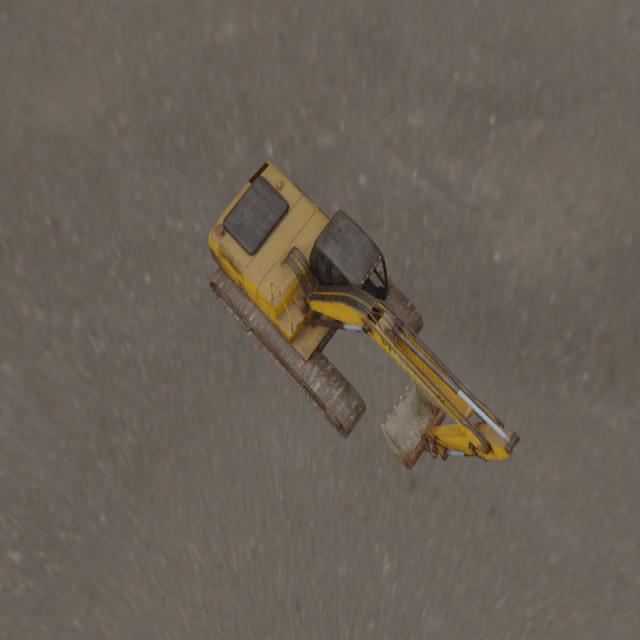excavator: (208, 160, 520, 469)
